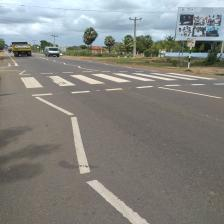crossing: (10, 66, 224, 116)
